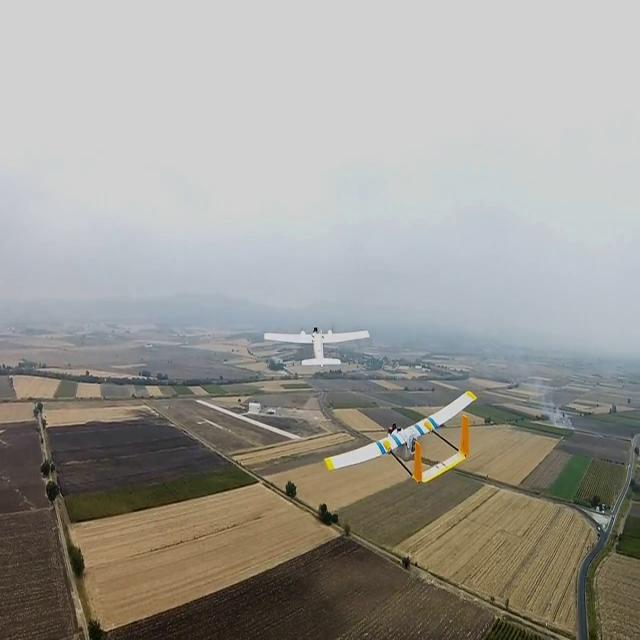iha: (319, 381, 492, 511), (294, 340, 342, 344)
